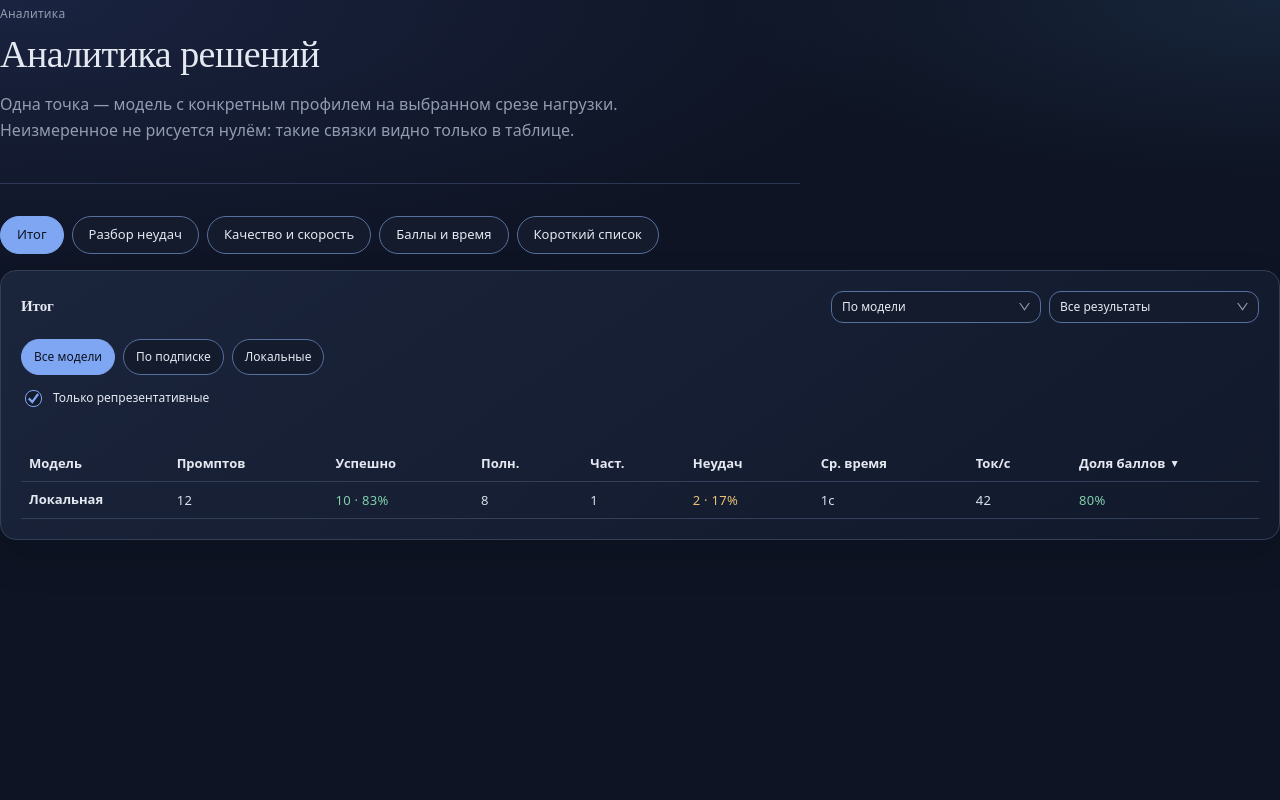
аналитика решений › строит зависимость баллов от времени промпта
Click the tab "Качество и скорость" at (289, 235), box [207,216,371,254]
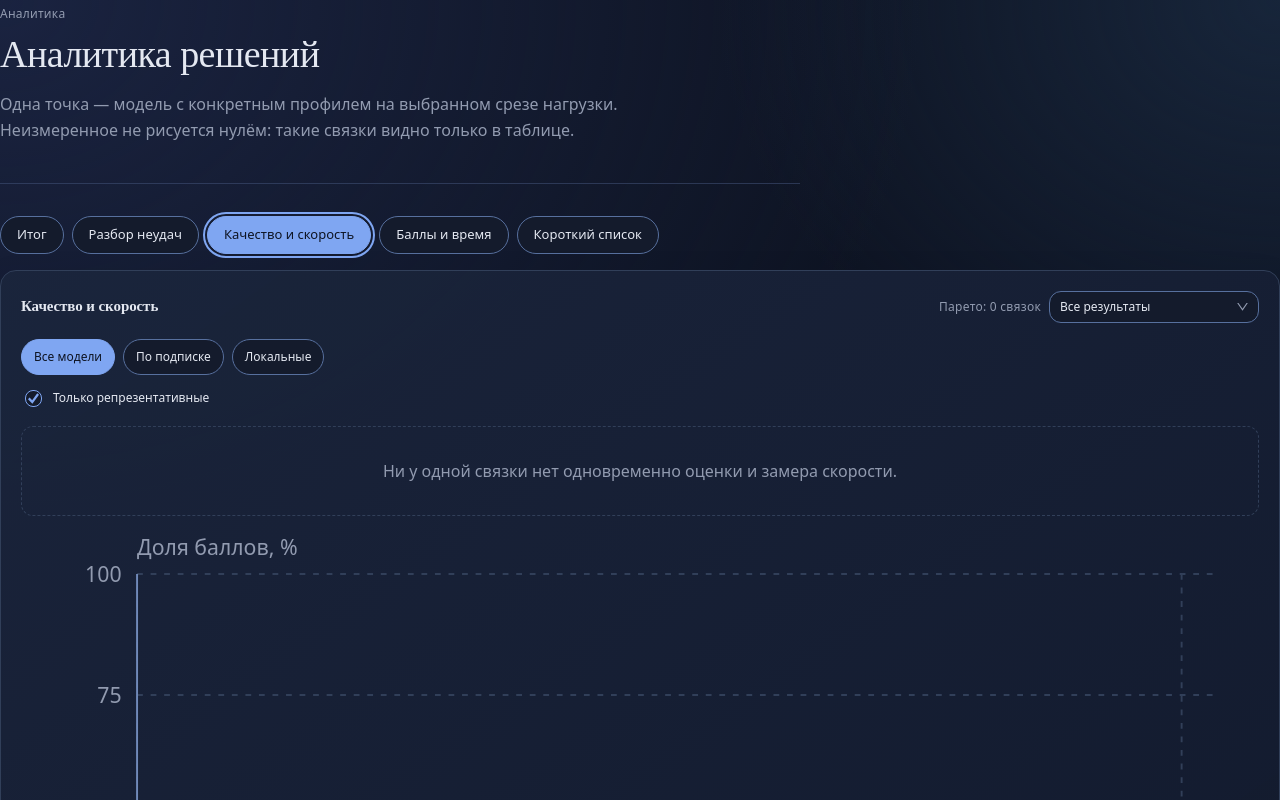
Click the tab "Баллы и время" at (444, 235), box [379,216,508,254]
(page scrolled)
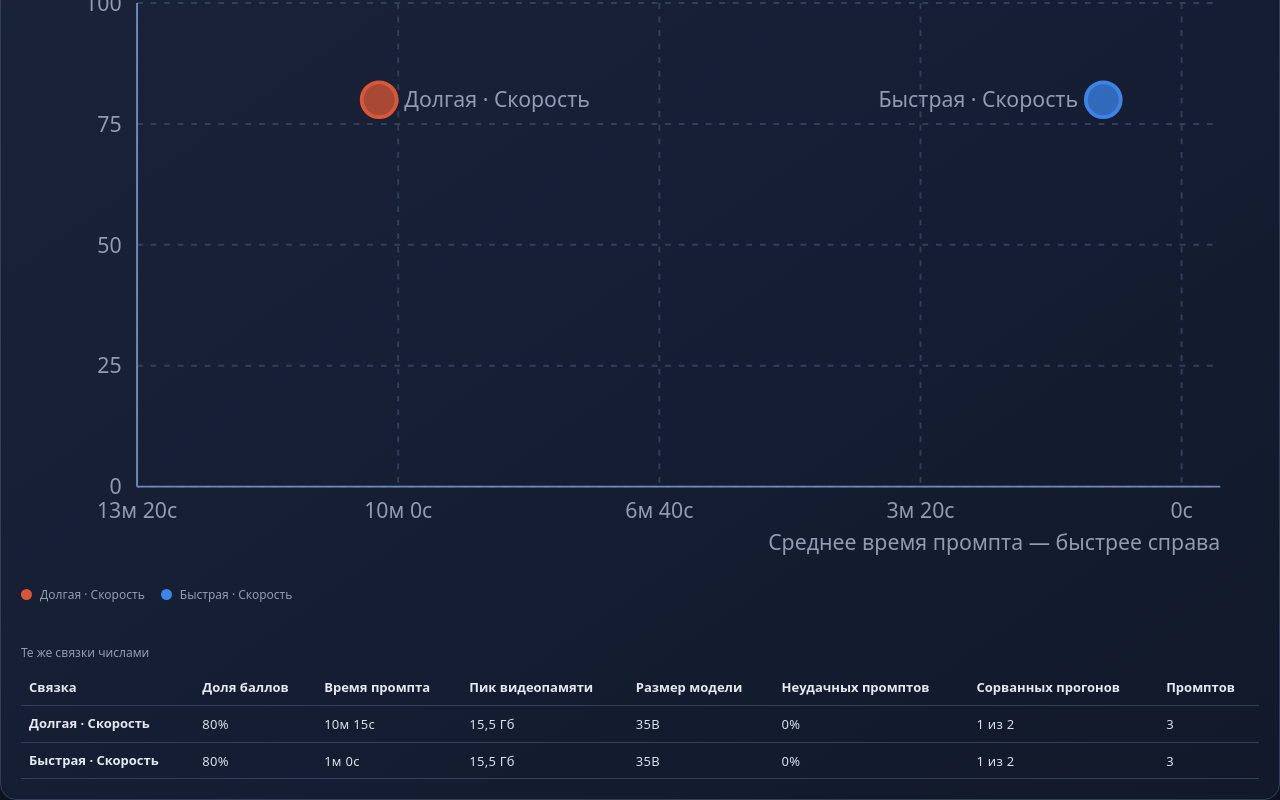
Result: the picture named "Зависимость баллов от времени выполнения промпта" shows "быстрее справа" at [768,527,1220,556]
Result: the picture named "Зависимость баллов от времени выполнения промпта" shows "10м 0с" at [364,494,432,523]
Result: the column heading "Время промпта" is shown at [316,670,461,706]
